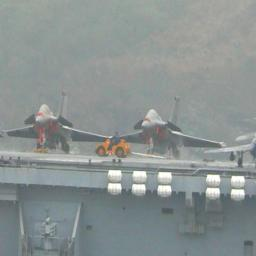Portanaves: (2, 67, 256, 197)
